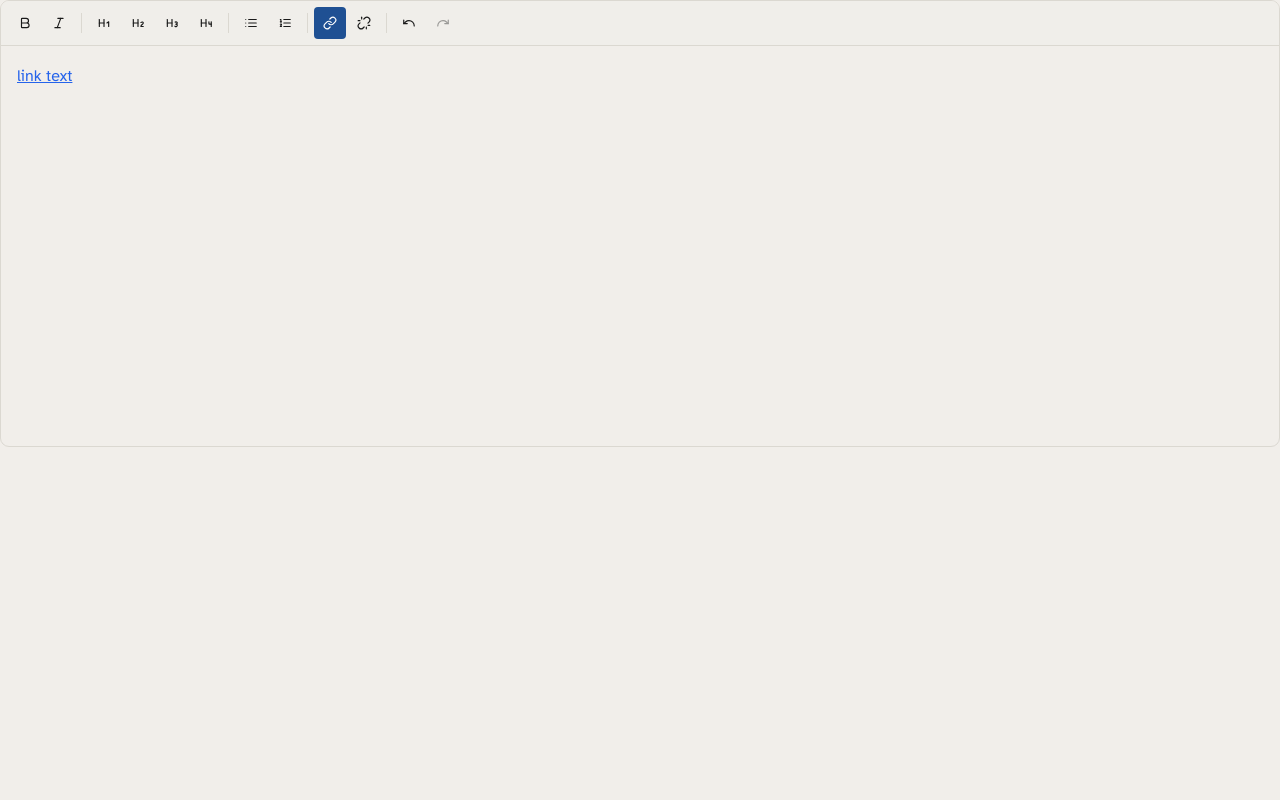
Test: RichTextEditor — link popover Remove link button › clicking Remove link closes the popover and unsets the link
The width and height of the screenshot is (1280, 800).
Expected: the element with test id "rich-text-editor" is shown, [0, 0, 1279, 447]
// Open popover with cursor on the link
Click the button with test id "rte-toolbar-add-link": point(330, 23) [314, 7, 346, 39]
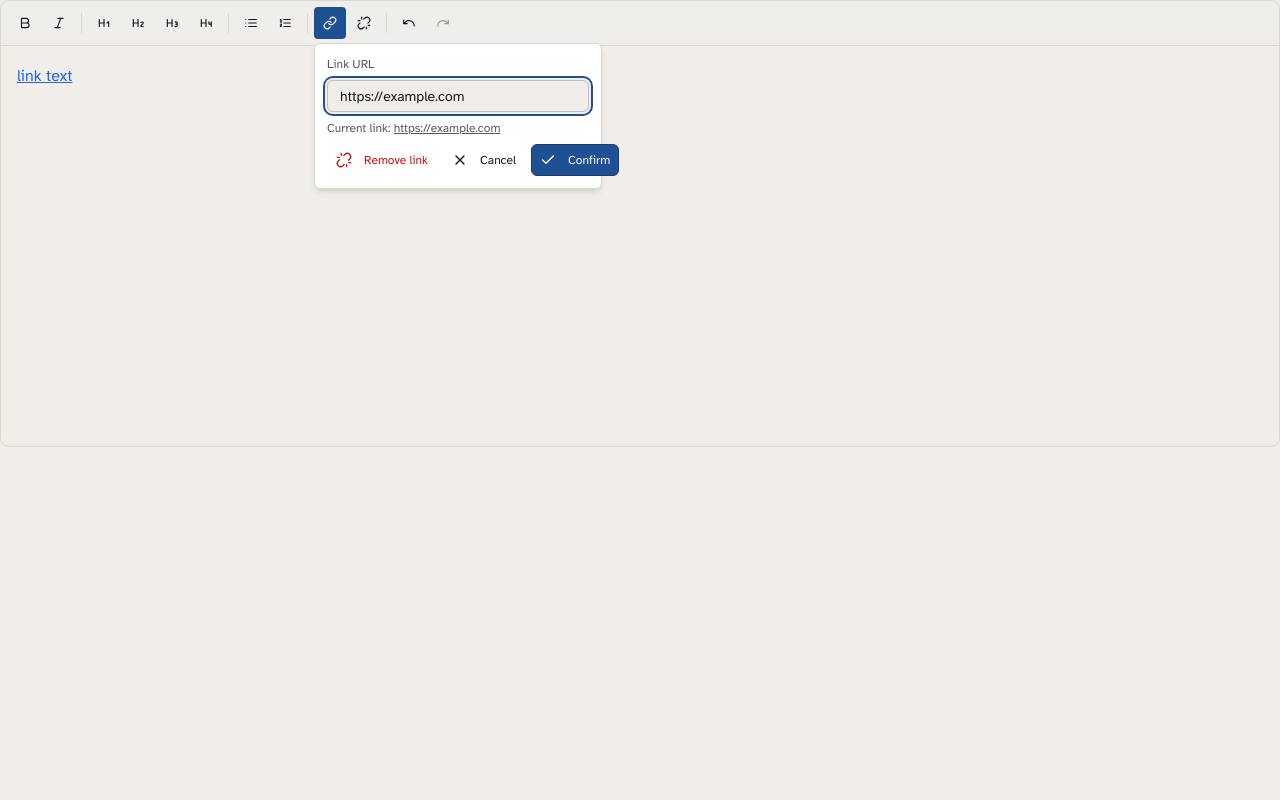
Expected: the button with test id "rte-link-remove" is shown
Click the button with test id "rte-link-remove": point(382, 160) [327, 144, 437, 176]
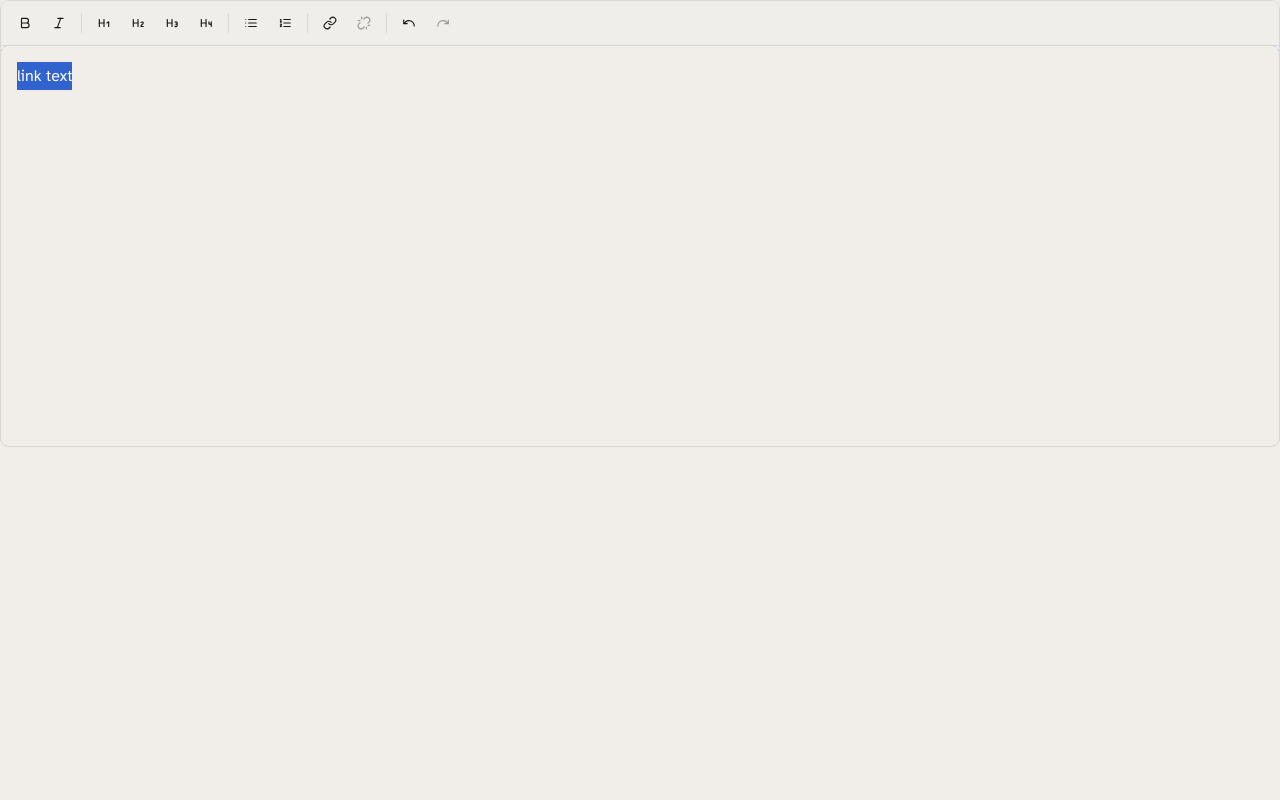
Expected: the button with test id "rte-link-confirm" is gone
